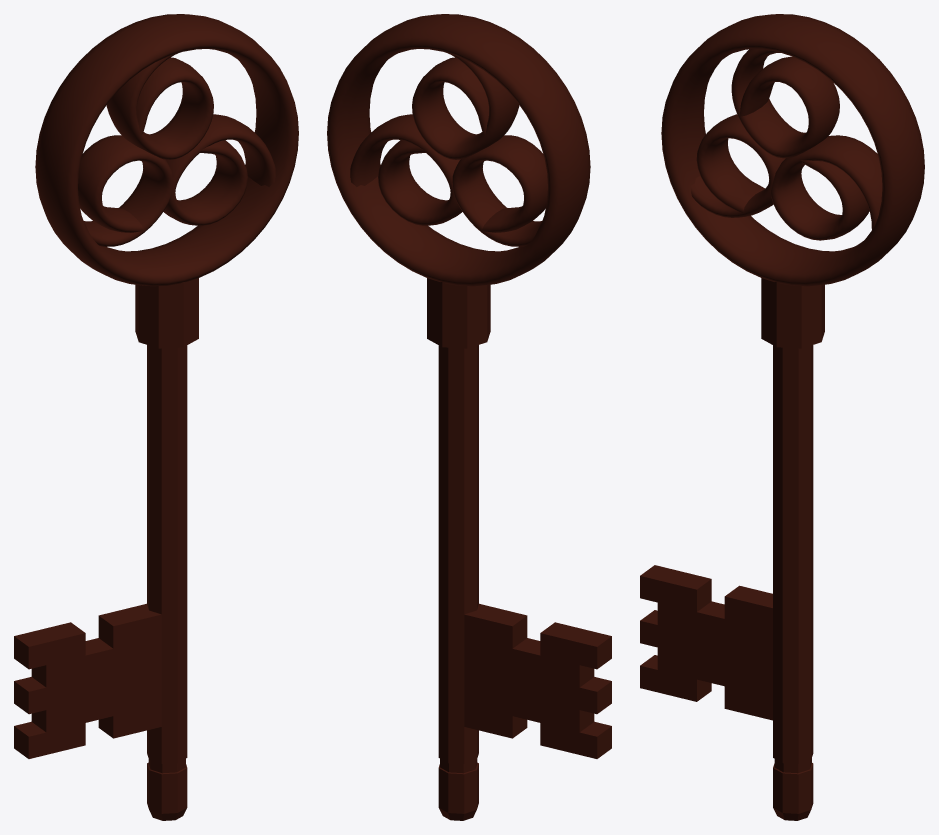
File: llave_666.fbx
3 views of the same model, side by side, from view 1: azimuth 30°, elevation 25°; view 2: azimuth 150°, elevation 25°; view 3: azimuth 330°, elevation 25° (orthographic).
Visible parts, largest first — view 1: llave_666; view 2: llave_666; view 3: llave_666.
Part boxes in pixels (<box>): llave_666: <box>14,14,298,820</box>; llave_666: <box>327,14,611,820</box>; llave_666: <box>640,14,924,820</box>.
Bounding box in the file's own units: 64.62 × 184 × 15.22.
